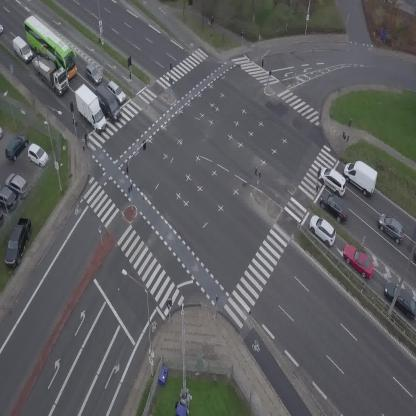bicycle: (207, 13, 216, 28), (82, 132, 91, 147)
bus: (14, 12, 87, 81)
car: (338, 239, 380, 282), (315, 187, 355, 226), (304, 211, 341, 248), (313, 163, 352, 197), (373, 209, 410, 244), (81, 62, 106, 87), (105, 79, 128, 105), (0, 23, 3, 34)
lorry: (21, 44, 77, 99), (67, 82, 116, 135), (337, 155, 384, 199), (92, 81, 124, 124), (8, 34, 37, 64), (413, 246, 416, 263)
